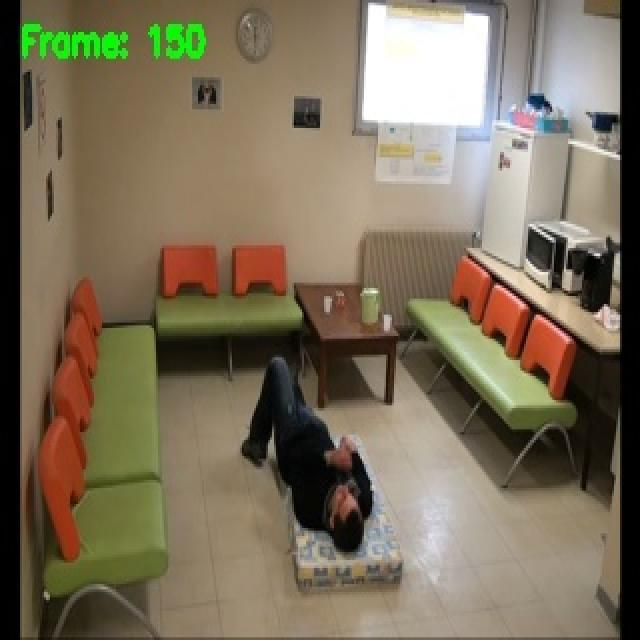fall: (236, 353, 376, 557)
